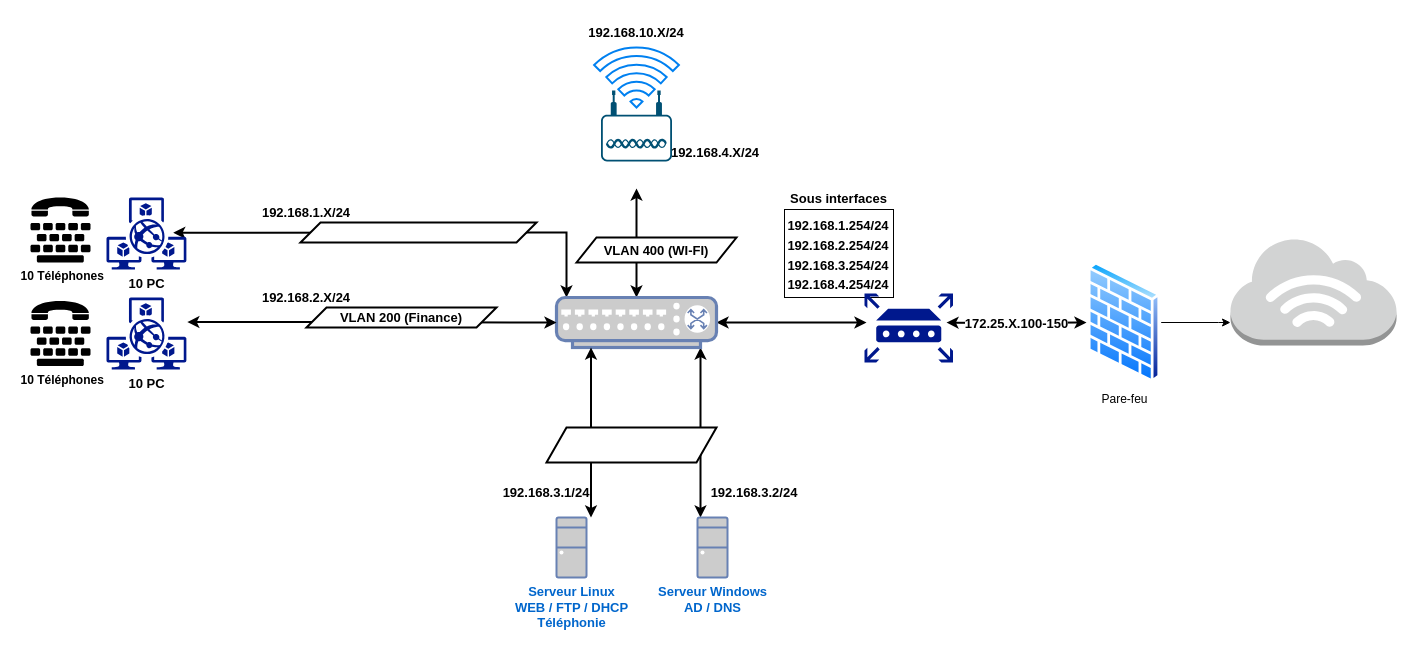
The diagram is 1414 pixels wide and 648 high, and some of its shapes have lost their labels. The centre of each missing label's shape, as x and y in pixels:
AP WI-FI: the point at 636,125
Internet: the point at 1313,291
VLAN 100 (Ressources Humaines: the point at 418,232
VLAN 300 (Technique): the point at 631,444
